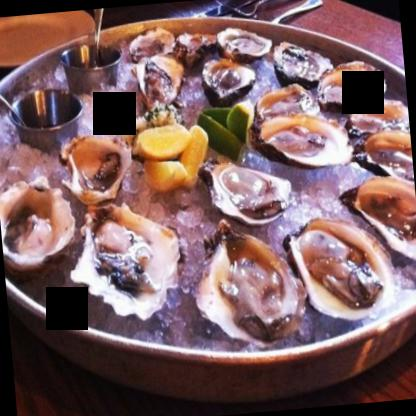oyster: (188, 220, 310, 348), (74, 200, 184, 324), (288, 214, 398, 322), (345, 165, 415, 279), (0, 183, 83, 274), (256, 106, 353, 180), (208, 155, 294, 234), (61, 128, 136, 196), (352, 122, 414, 199), (314, 58, 382, 118)
